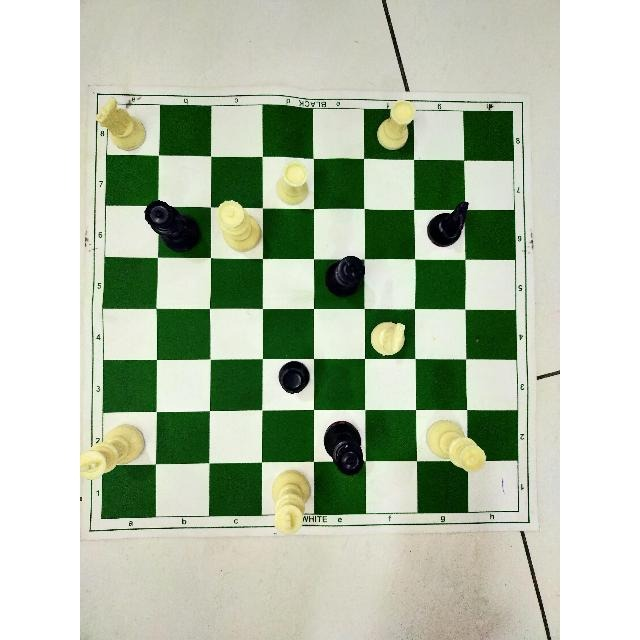black-king: (324, 254, 366, 298)
black-knight: (426, 199, 470, 249)
black-queen: (144, 199, 202, 253), (321, 419, 364, 476)
black-rook: (277, 361, 311, 397)
white-king: (80, 423, 145, 481), (271, 469, 311, 537)
white-knight: (95, 96, 147, 152), (369, 321, 407, 357)
white-queen: (425, 418, 489, 476), (215, 198, 262, 254)
white-rook: (376, 98, 416, 151), (276, 161, 310, 205)
